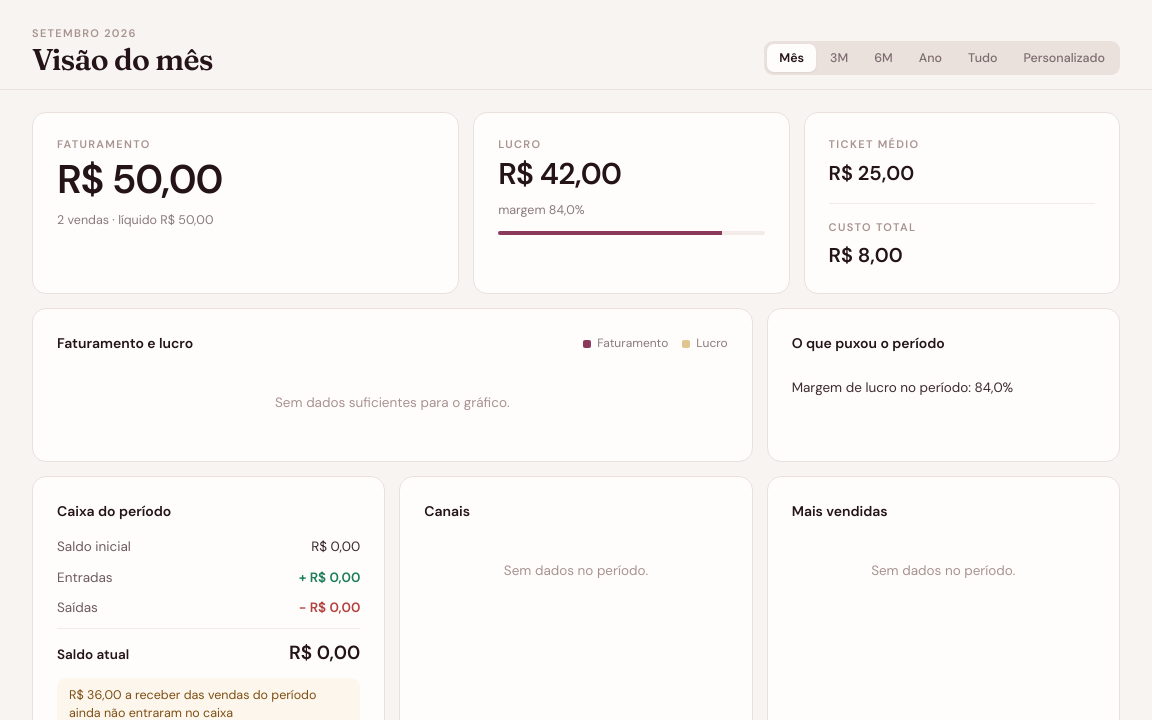
Scenario: Painel: a receber do período › should_keep_the_plain_note_in_all_time
Expected: the text "das vendas do período" is shown, [180,687,316,703]
Click the button "Tudo".
click(983, 58)  # box [956,44,1009,72]
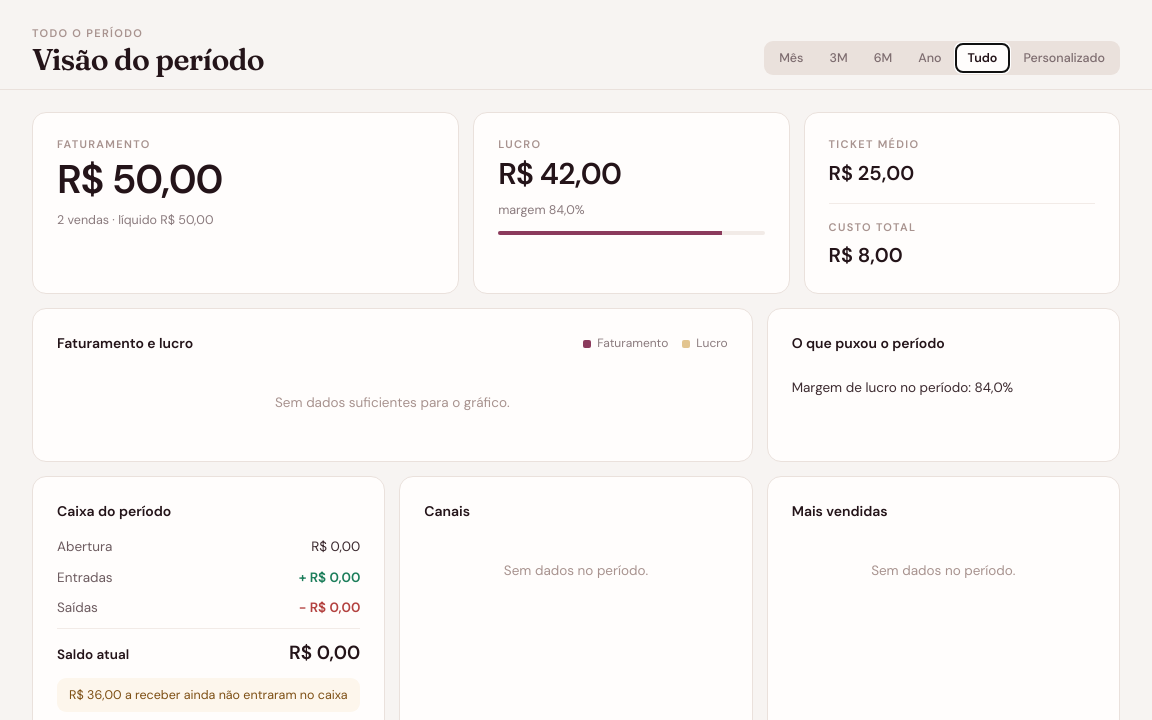
Expected: the text "R$ 36,00 a receber ainda não entraram no caixa" is shown, [57,678,360,712]
